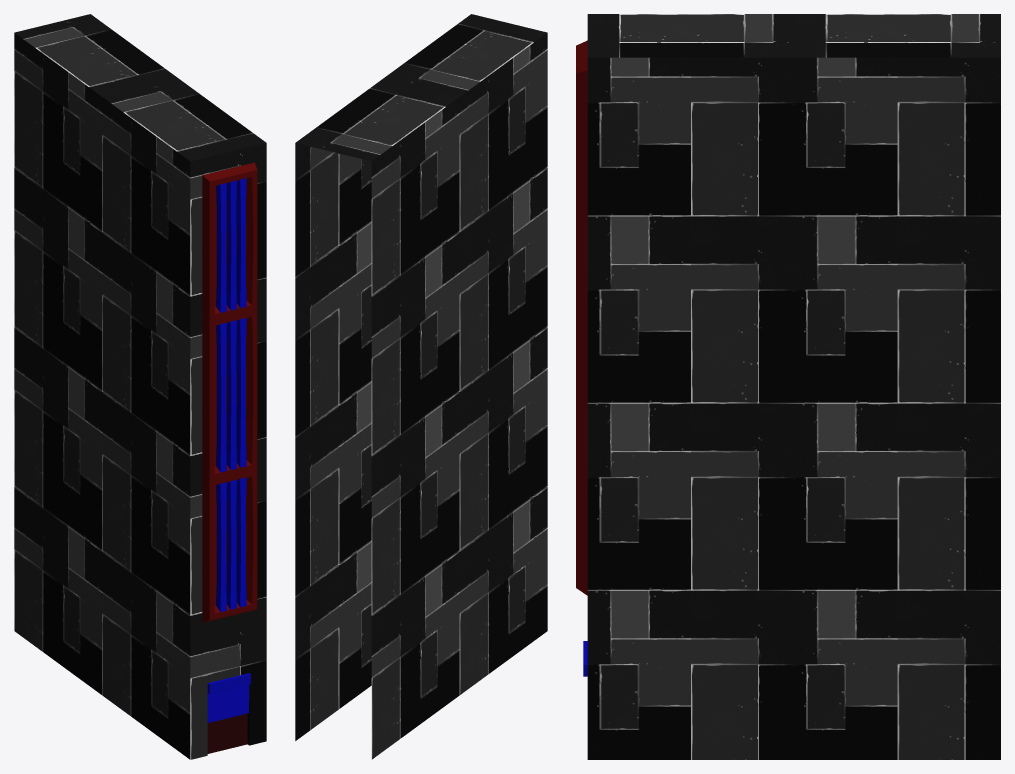
The model's file is SM_HumanBuilding03.FBX.
3 renders of one model, left to right at view 1: azimuth 30°, elevation 25°; view 2: azimuth 150°, elevation 25°; view 3: azimuth 270°, elevation 25°, orthographic. The views are drawn at different scales.
Visible parts, largest first — view 1: Wall1483; view 2: Wall1483; view 3: Wall1483.
Part boxes in pixels (x1=…): Wall1483: x1=14, y1=14, x2=266, y2=759; Wall1483: x1=295, y1=14, x2=547, y2=759; Wall1483: x1=576, y1=14, x2=1000, y2=759.
Bounding box in the file's own units: 400 × 1645 × 3000.
